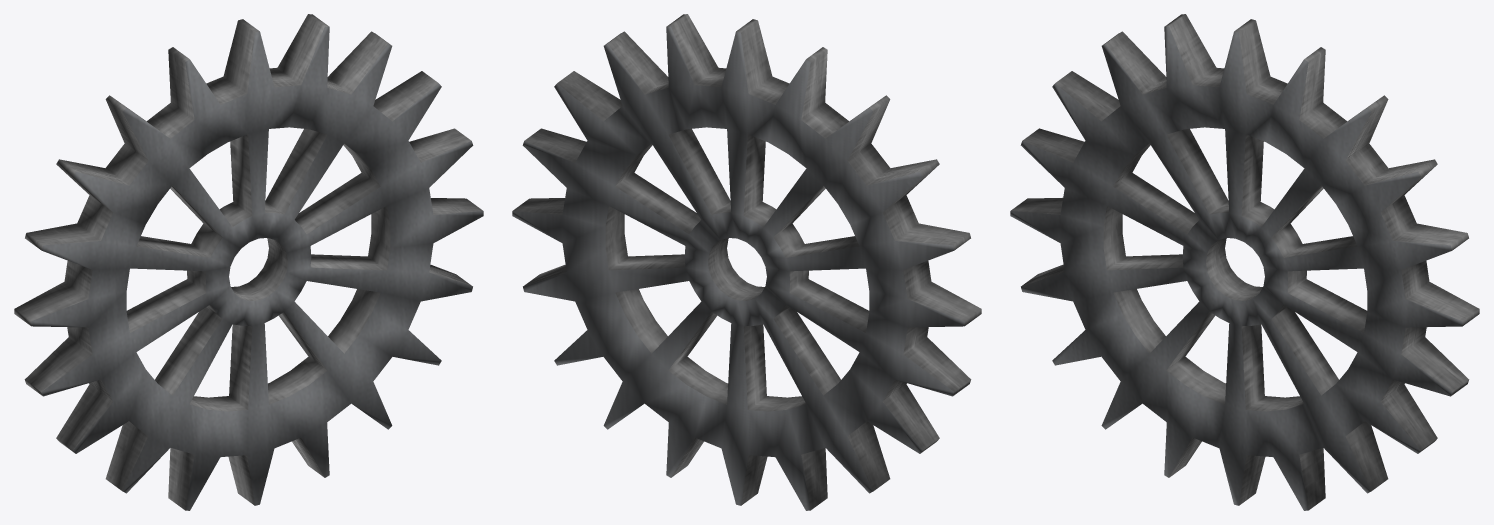
3 views of the same model, side by side, from view 1: azimuth 30°, elevation 25°; view 2: azimuth 150°, elevation 25°; view 3: azimuth 330°, elevation 25° (orthographic).
Visible parts, largest first — view 1: gear_20; view 2: gear_20; view 3: gear_20.
Boxes of the visible parts, x1,y1,x2,y2 form: gear_20: (14,14,483,510); gear_20: (512,14,981,510); gear_20: (1010,14,1479,510).
Bounding box in the file's own units: 2.18 × 2.18 × 0.2.
1 material, 1 textured.
